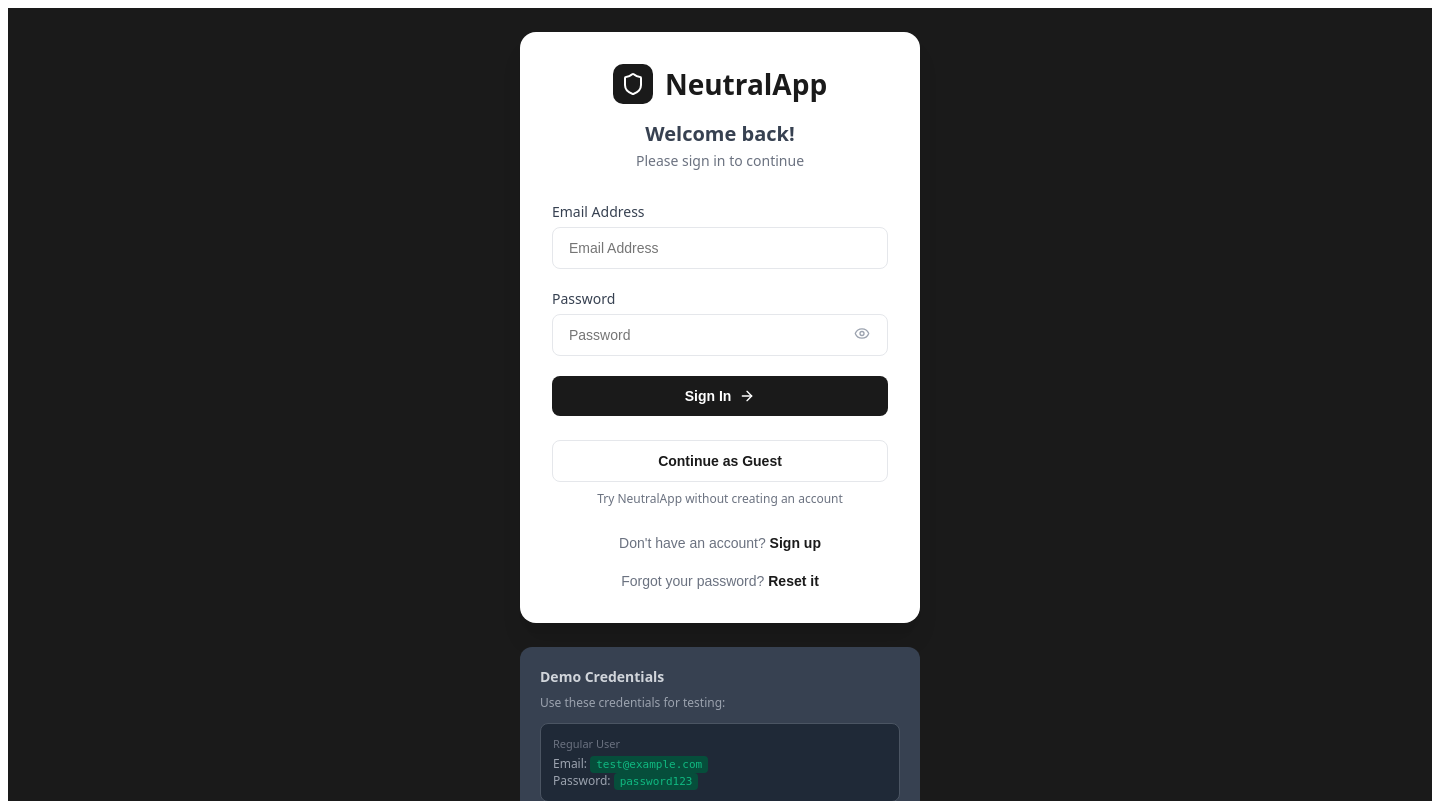
AuthPage › Registration Mode › should render registration form
The width and height of the screenshot is (1440, 801).
Note: Switch to register mode
Click the button "Don't have an account? Sign up" at (720, 543), box top-left (613, 534), bottom-right (827, 552)
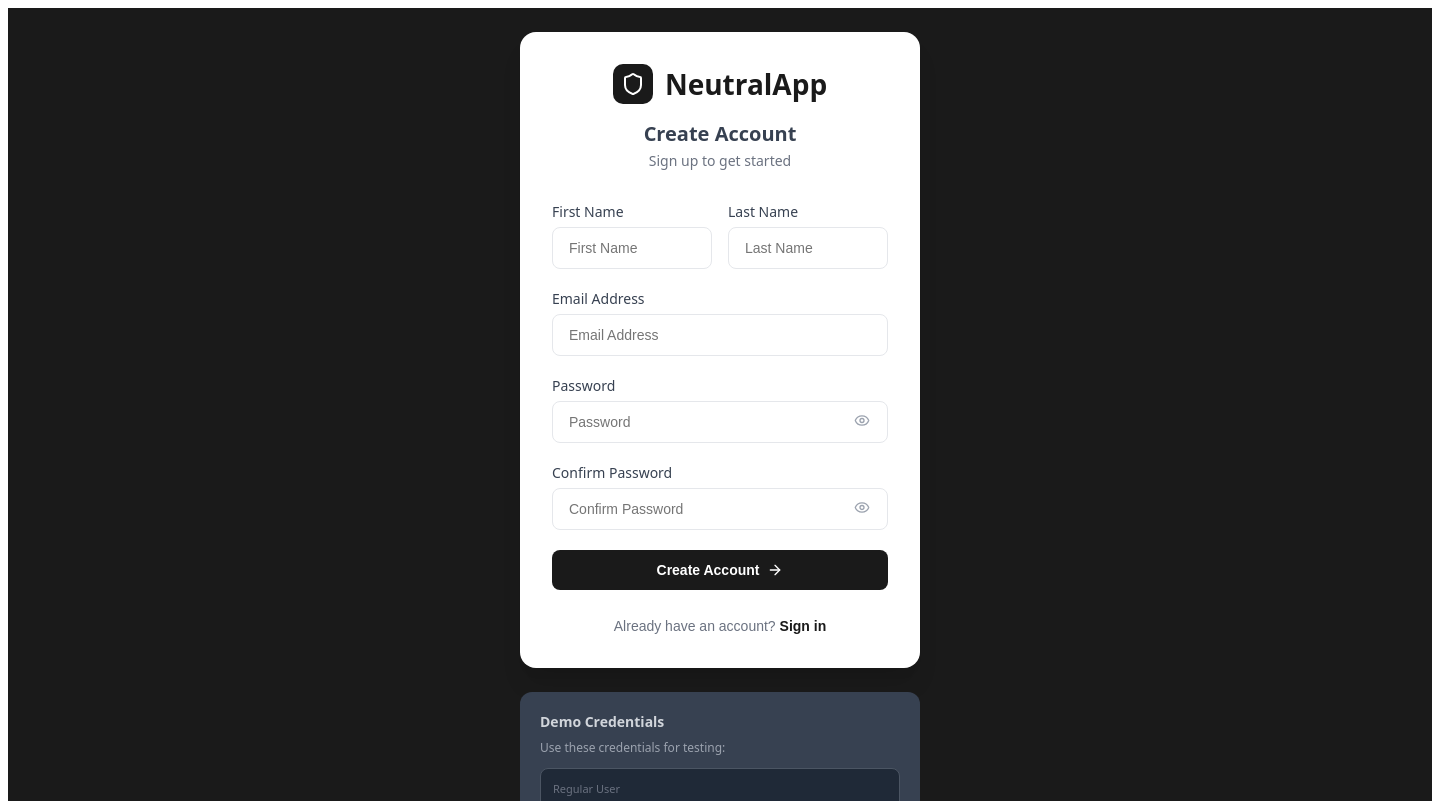
Check: the text "Sign up to get started" is shown, box top-left (649, 151), bottom-right (791, 170)
Check: the field with placeholder "First Name" is shown, box top-left (552, 227), bottom-right (712, 269)
Check: the field with placeholder "Last Name" is shown, box top-left (728, 227), bottom-right (888, 269)
